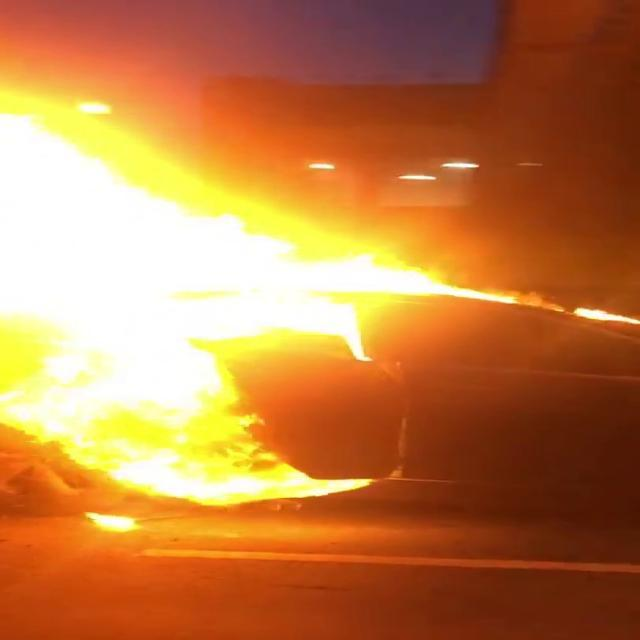Fire: (2, 64, 469, 513)
